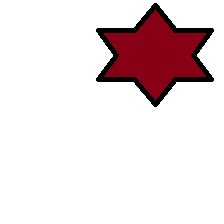star: (95, 3, 214, 107)
